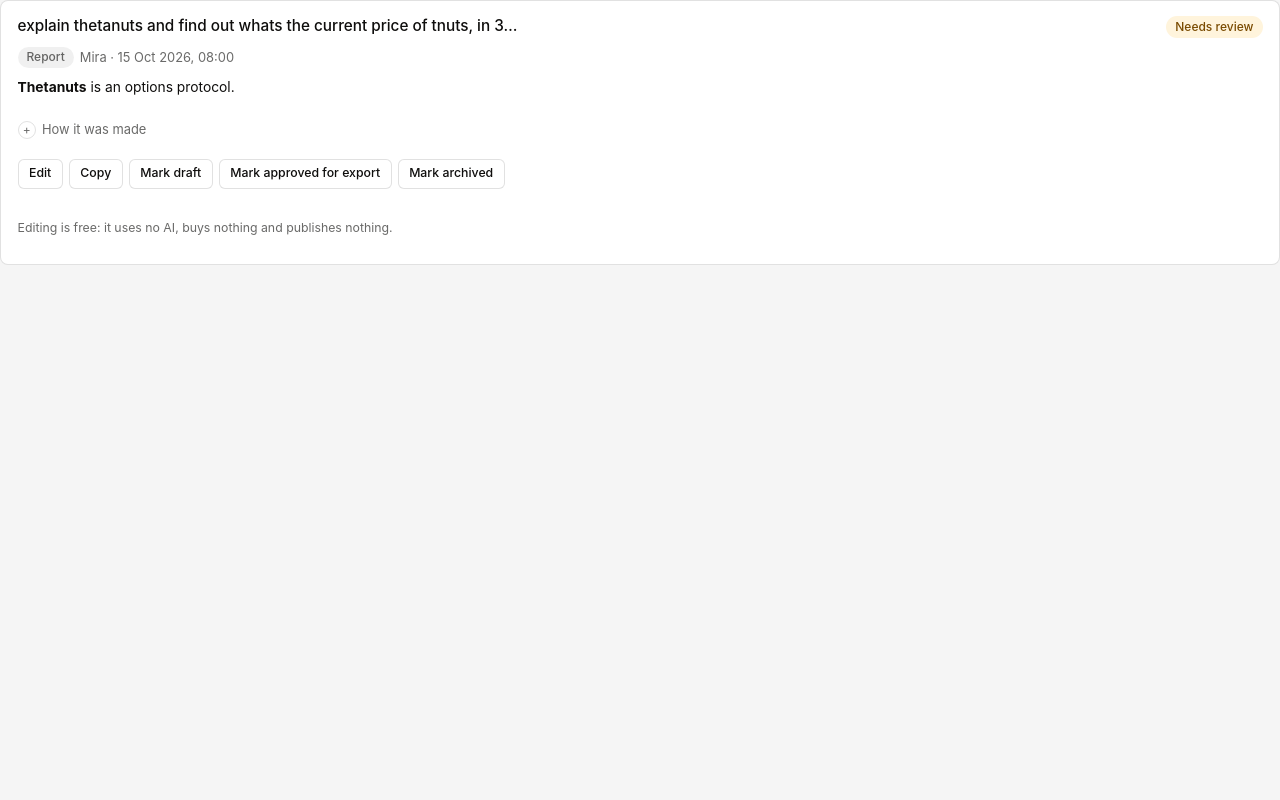
Test: Outputs cards lead with the formatted answer › shows the formatted answer and a short title, with editing and details on request
Expected: the heading named "explain thetanuts and find out whats the current price of tn" shows "…", [18,16,517,37]
Expected: the field labelled "Draft text" is not shown
Click the button "Edit": [40, 174] box [18,159,63,189]
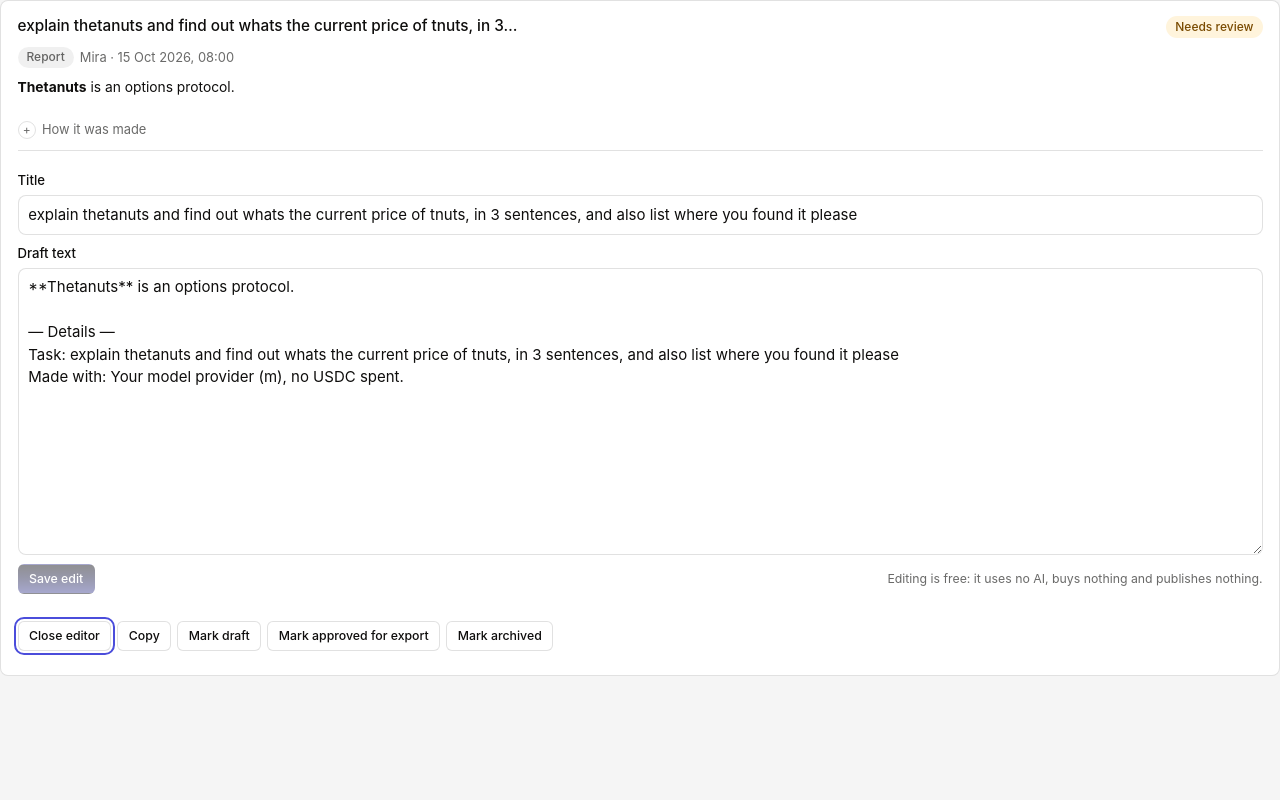
Expected: the button "Mark approved for export" is shown, [267,621,440,651]
Result: the field labelled "Title" holds "explain thetanuts and find out whats the current price of tnuts, in 3 sentences, and also list where you found it please" at [18,195,1262,235]
